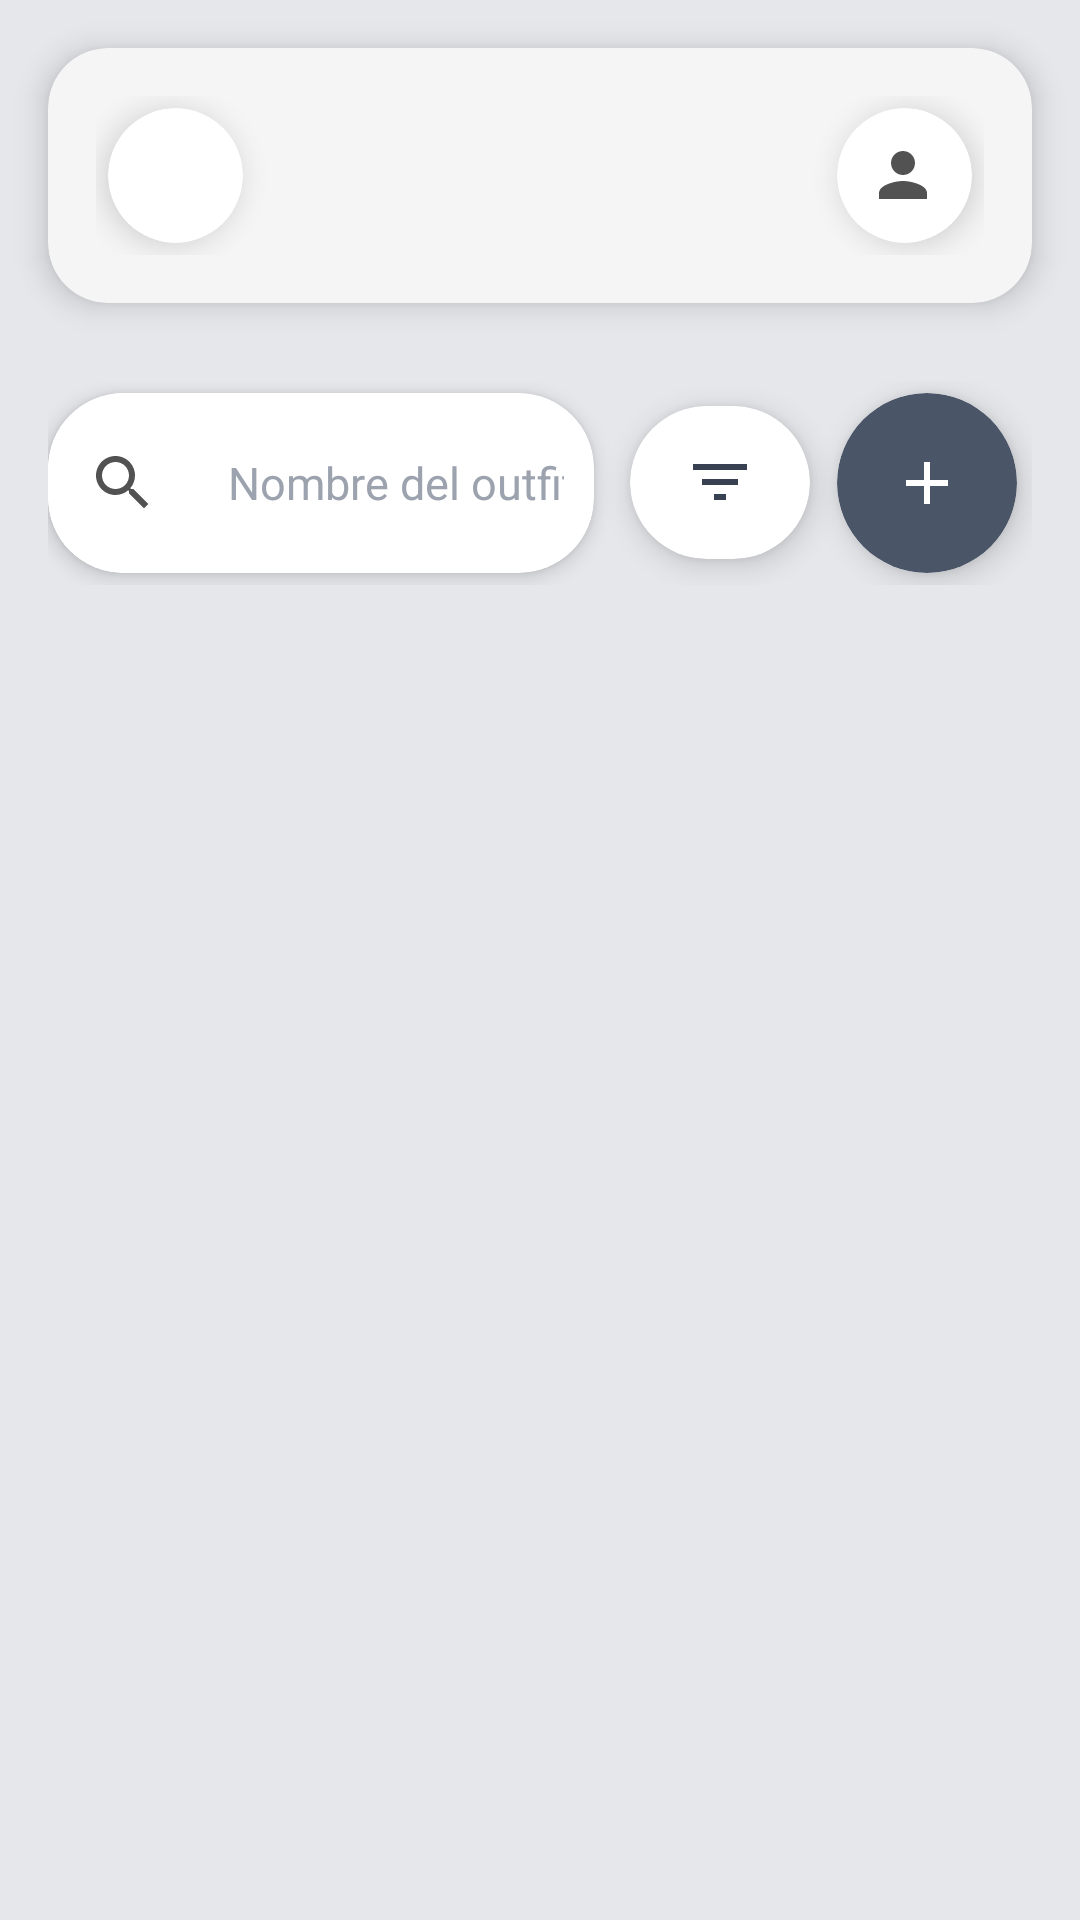

Icons on this 1080x1920 Android screen, each with its box as Rect(x1, y1, x2, y2):
Add outfit: Rect(906, 462, 948, 504)
filter: Rect(693, 464, 747, 500)
person: Rect(879, 151, 927, 199)
